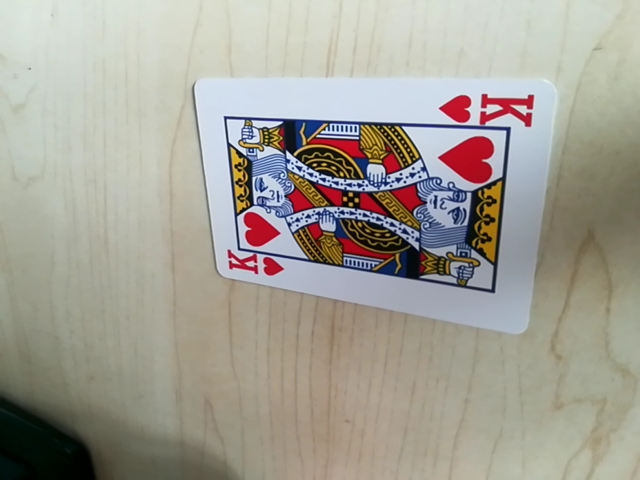hx k: (440, 87, 545, 131), (221, 255, 285, 283)
